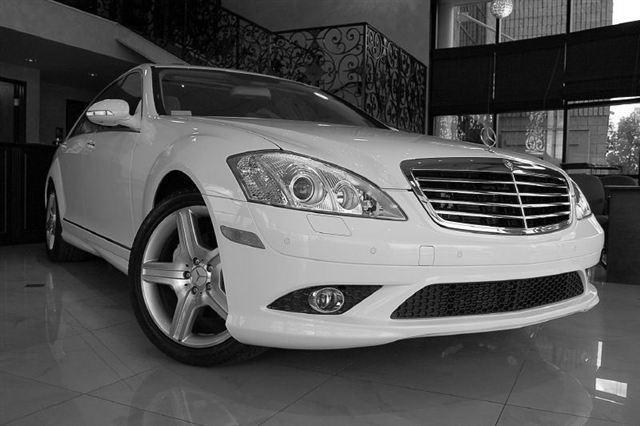car: (45, 66, 605, 369)
